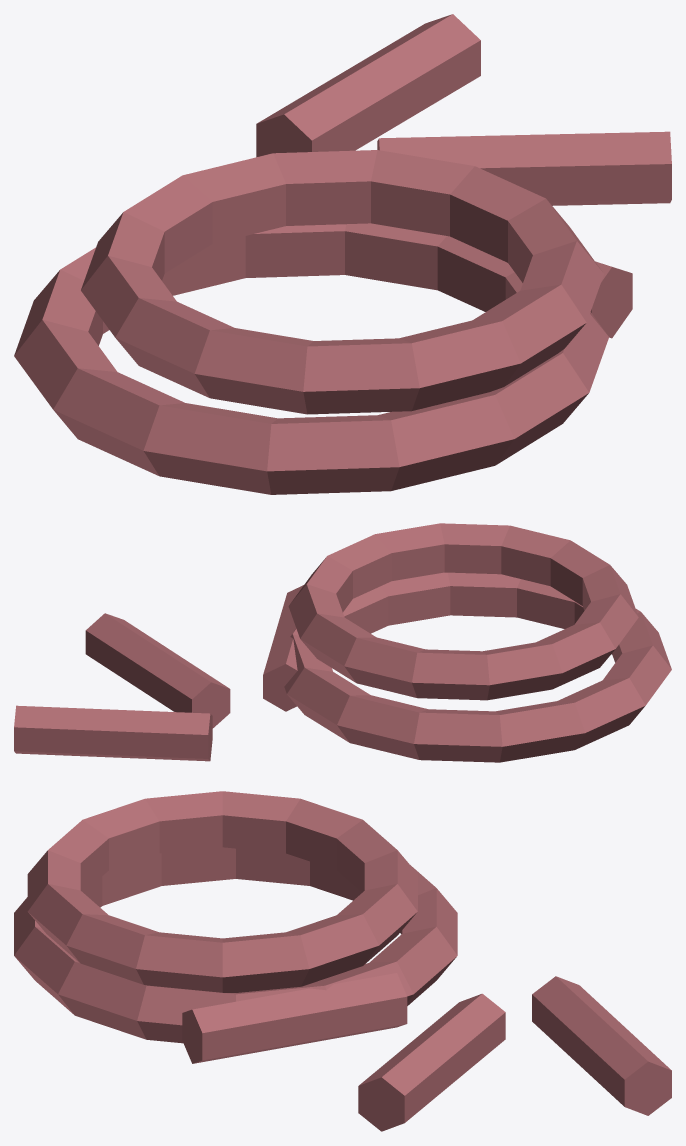
Rendered from rope_coil.glb.
3 renders of one model, top to bottom at view 1: azimuth 30°, elevation 25°; view 2: azimuth 150°, elevation 25°; view 3: azimuth 270°, elevation 25°, orthographic. The views are drawn at different scales.
Visible parts, largest first — view 1: rope_coil; view 2: rope_coil; view 3: rope_coil.
Part boxes in pixels (left/top/right/bottom): rope_coil: left=14, top=14, right=671, bottom=494; rope_coil: left=14, top=523, right=671, bottom=762; rope_coil: left=14, top=791, right=671, bottom=1131.
Size of the model in its own units: 0.9776 by 0.1757 by 1.01.
